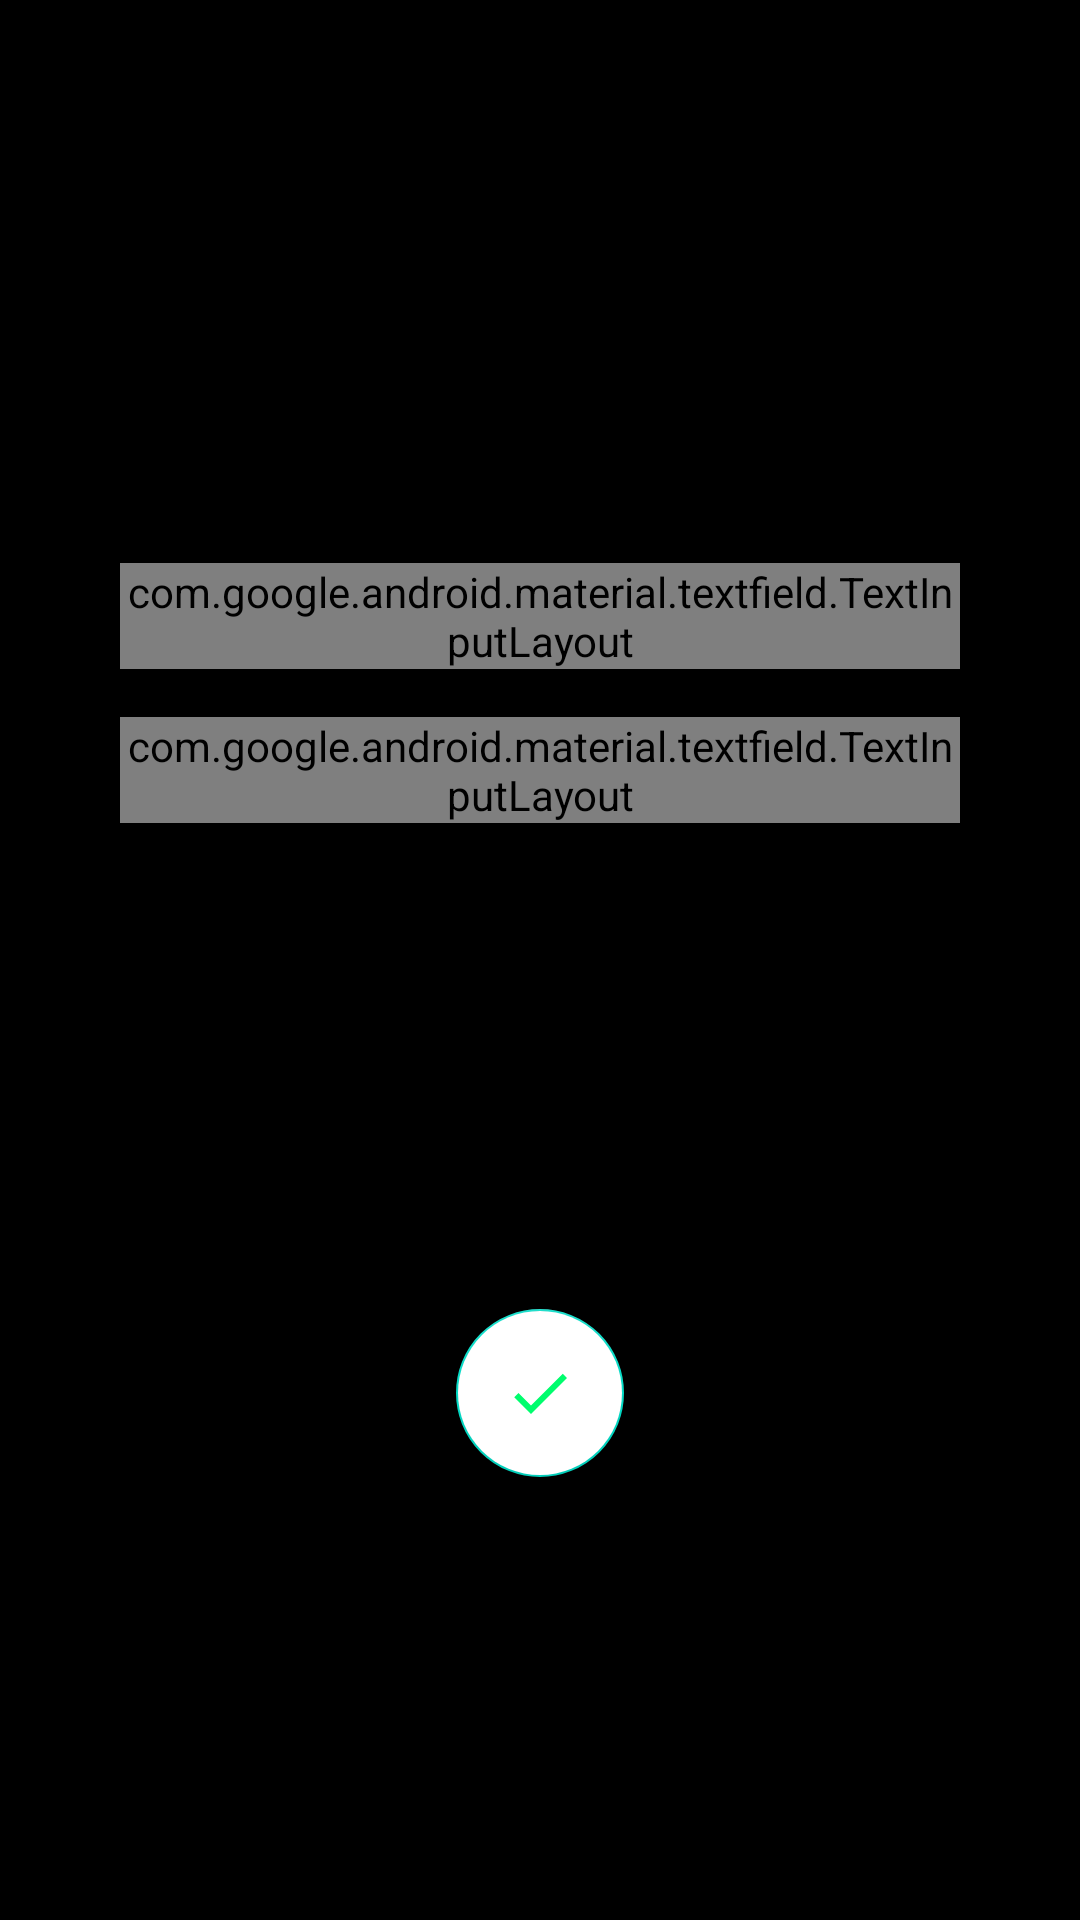

Icons on this 1080 × 1920 Android screen, each with the point to tap as (x,y):
aprove: (540,1393)
